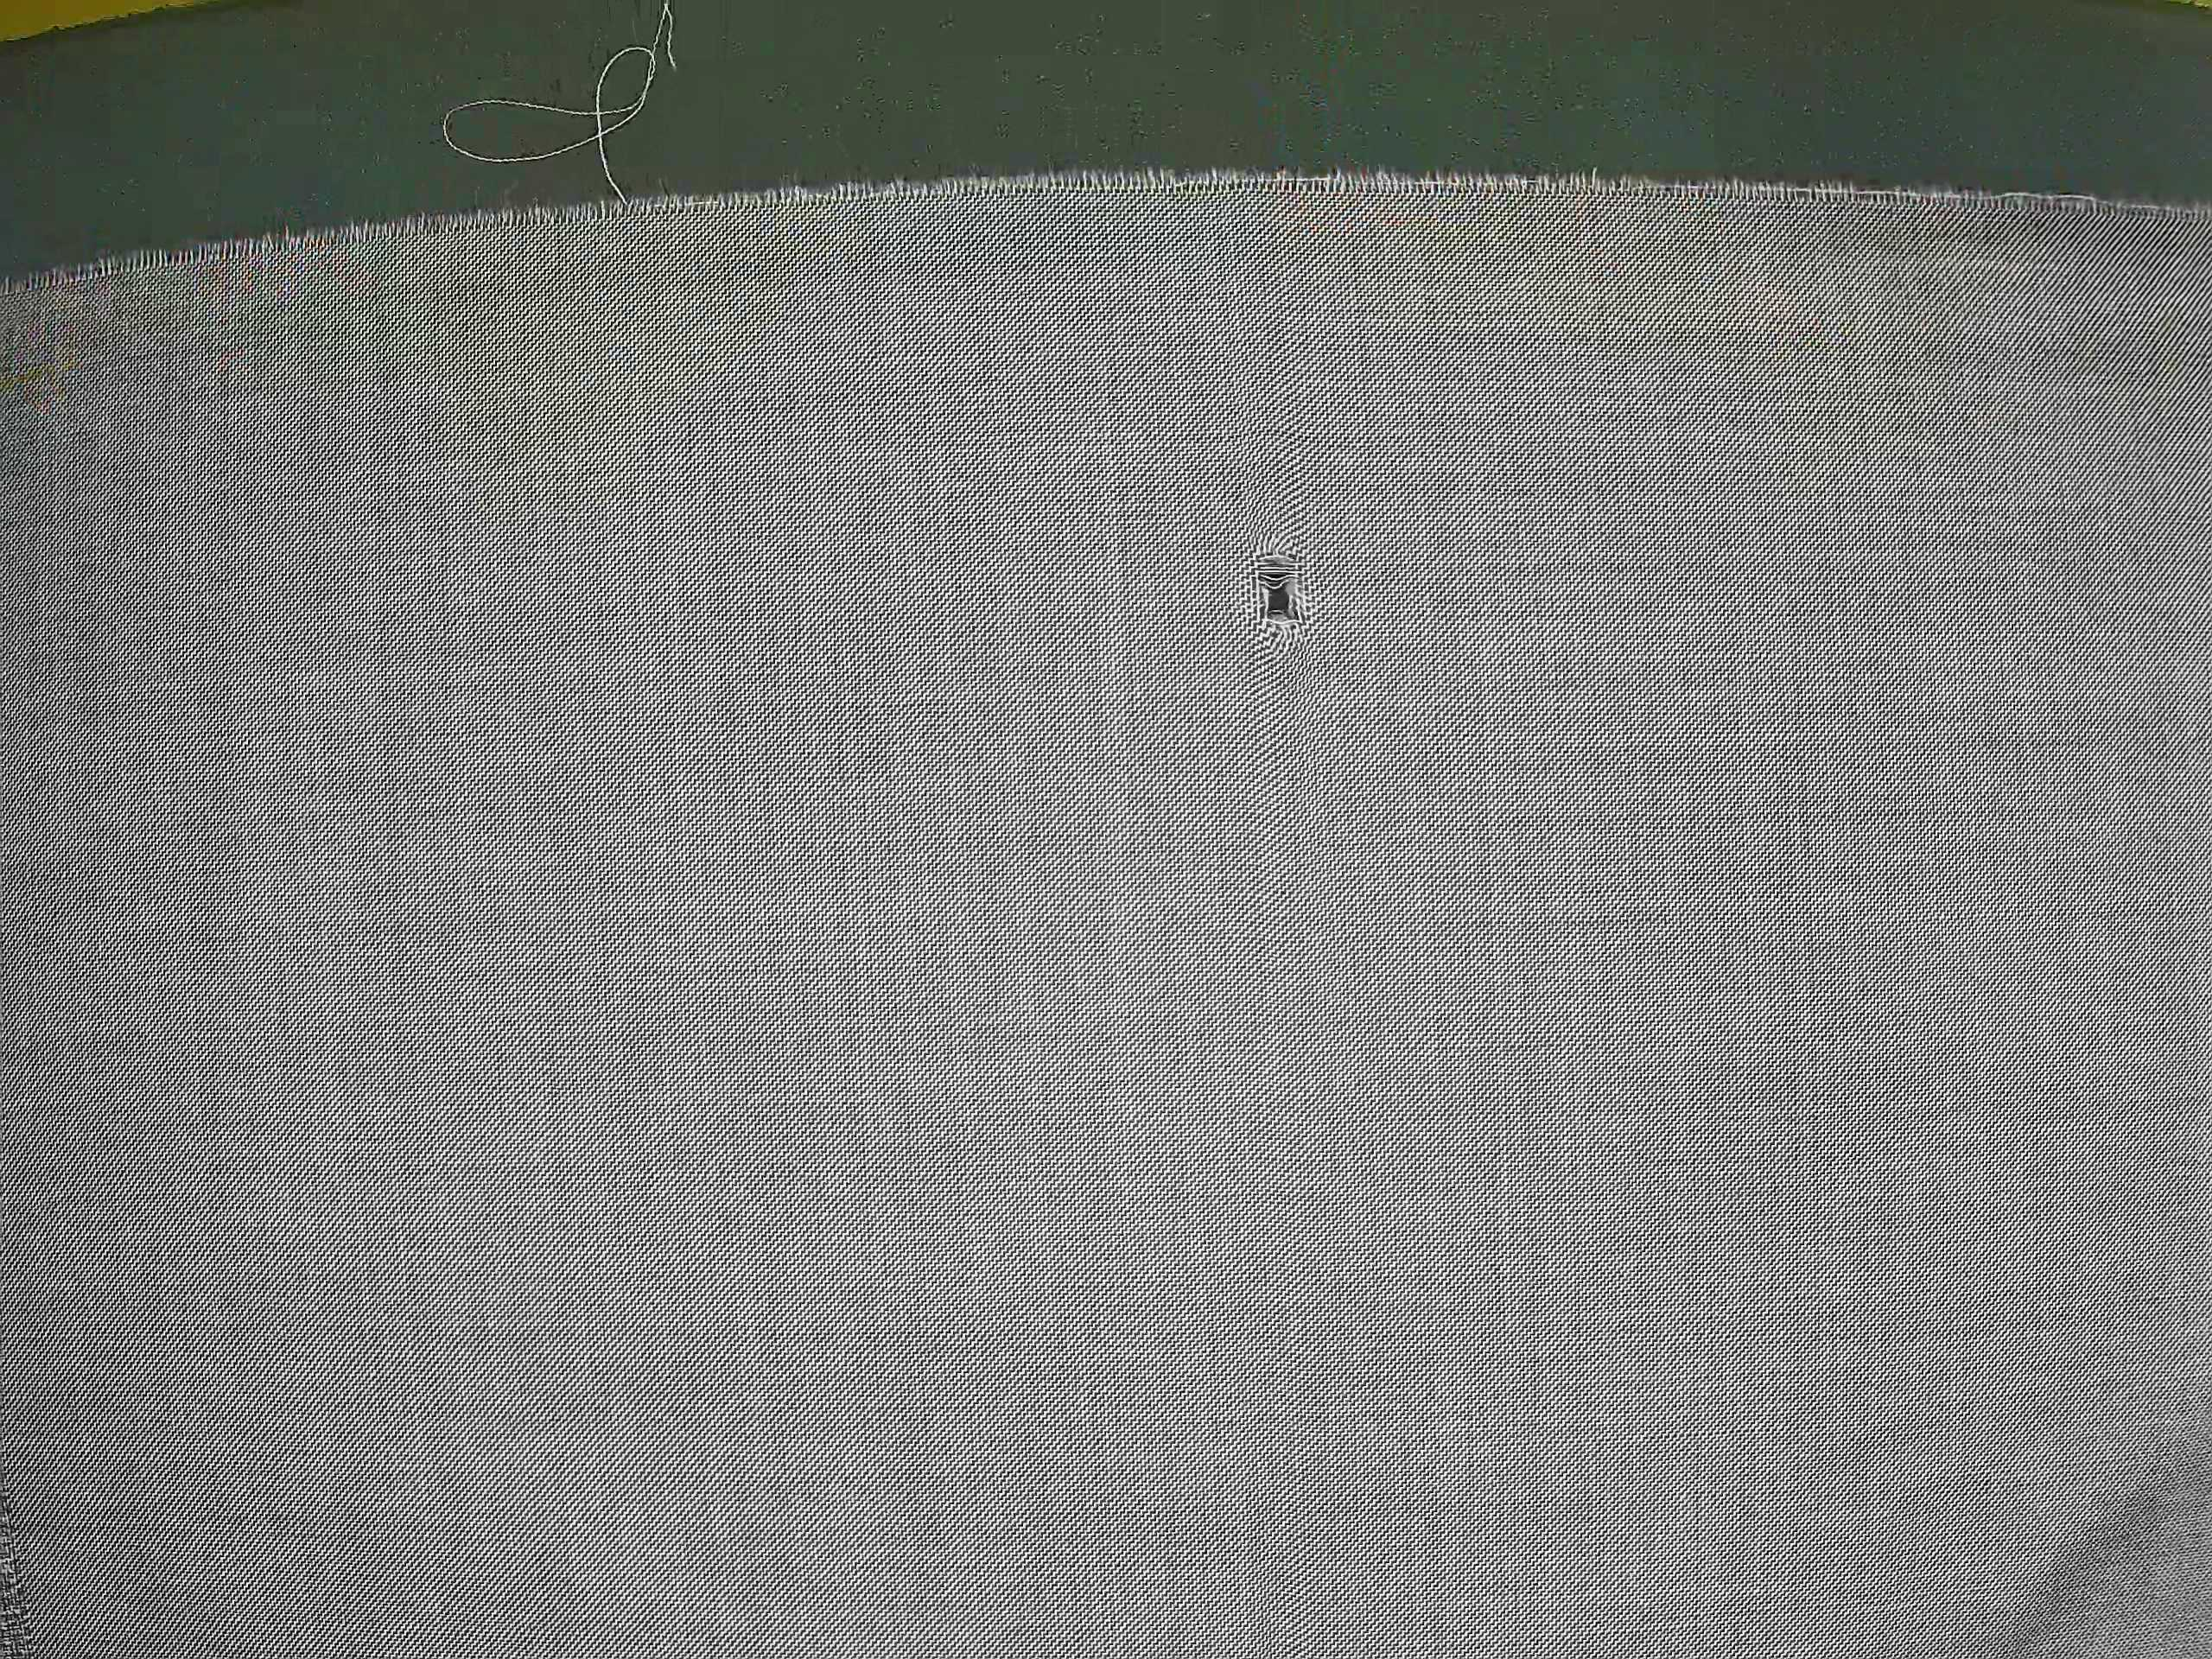chafed: (1224, 526, 1329, 652)
